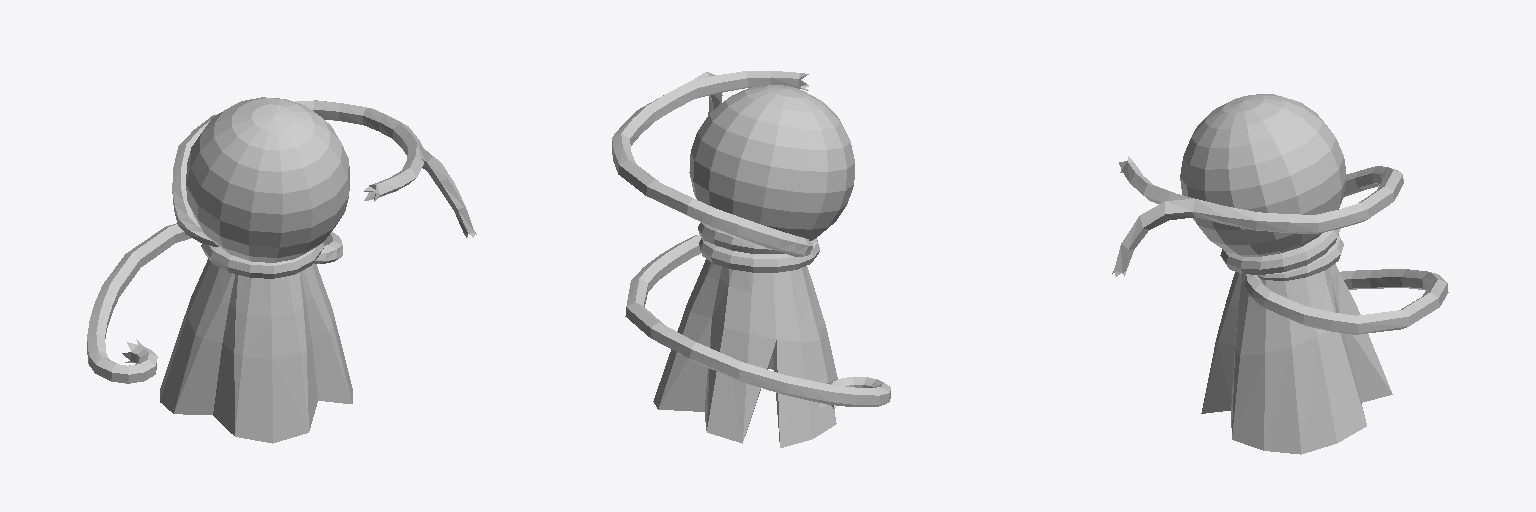
The model's file is DrownedVisageMesh.obj.
3 renders of one model, left to right at view 1: azimuth 30°, elevation 25°; view 2: azimuth 150°, elevation 25°; view 3: azimuth 270°, elevation 25°, orthographic.
Parts seen in each view (by area): view 1: DrownedVisageMesh_Drowned_Visage; view 2: DrownedVisageMesh_Drowned_Visage; view 3: DrownedVisageMesh_Drowned_Visage.
Part boxes in pixels (x1,y1,x2,y2): DrownedVisageMesh_Drowned_Visage: (87, 97, 476, 443); DrownedVisageMesh_Drowned_Visage: (612, 71, 890, 447); DrownedVisageMesh_Drowned_Visage: (1112, 94, 1448, 454).
Size of the model in its own units: 1.56 by 1.66 by 1.62.